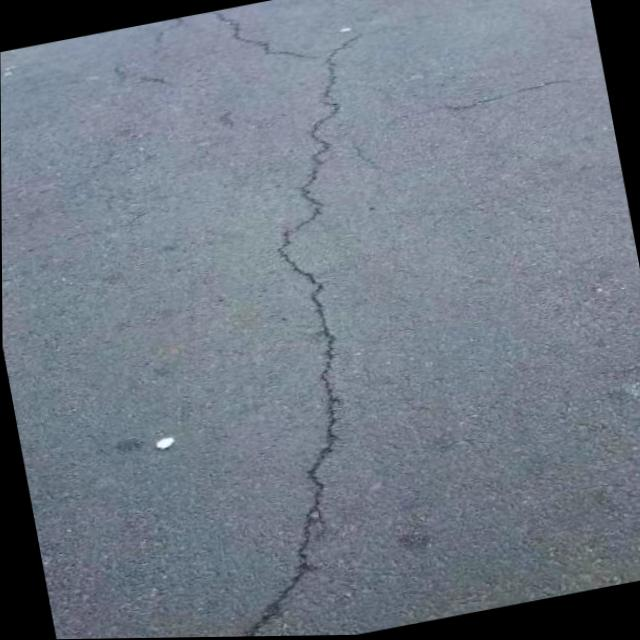Crack: (88, 0, 495, 639)
